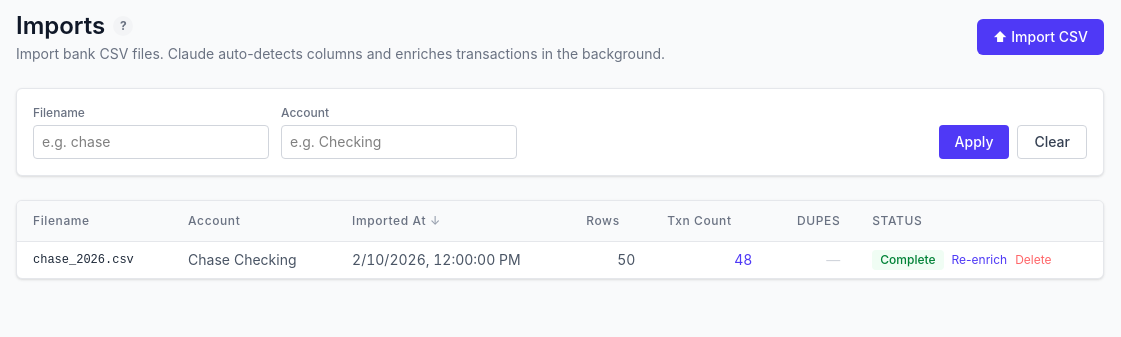
it: ImportsPage › clicking Delete shows inline confirmation
Expected: the text "Complete" is shown, [872,250,944,270]
Click the button "Delete" at (1033, 260), box [1015,252,1052,268]
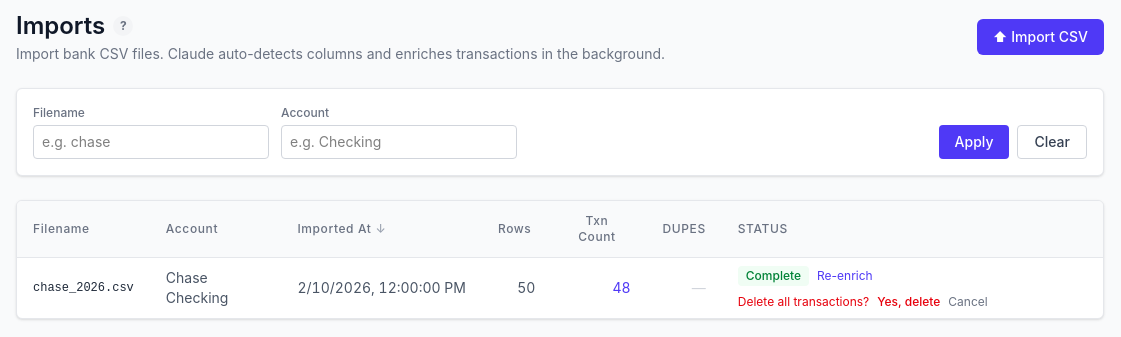
Now the text "Delete all transactions?" is shown, box [738,294,869,310]
Now the button "Yes, delete" is shown, box [877,294,940,310]
Now the button "Cancel" is shown, box [948,294,988,310]
